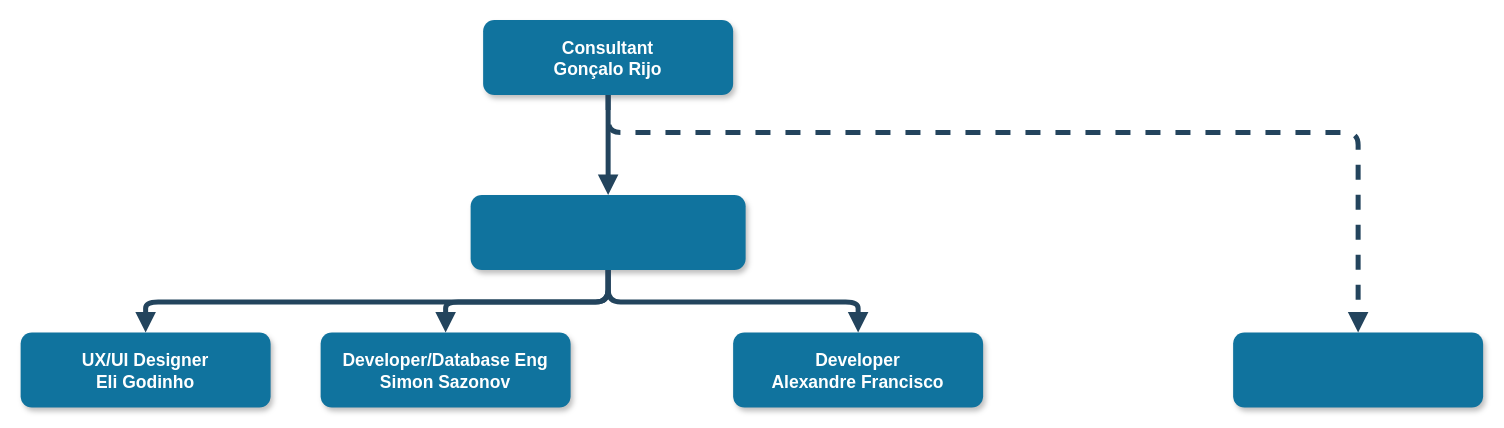
This 1504x428 diagram has some shape labels left out. Each missing label, with the centre of its shape:
Client Mr.Gonçalo Rijo: (1359,371)
Project Manager Brenda Lima: (608,233)
